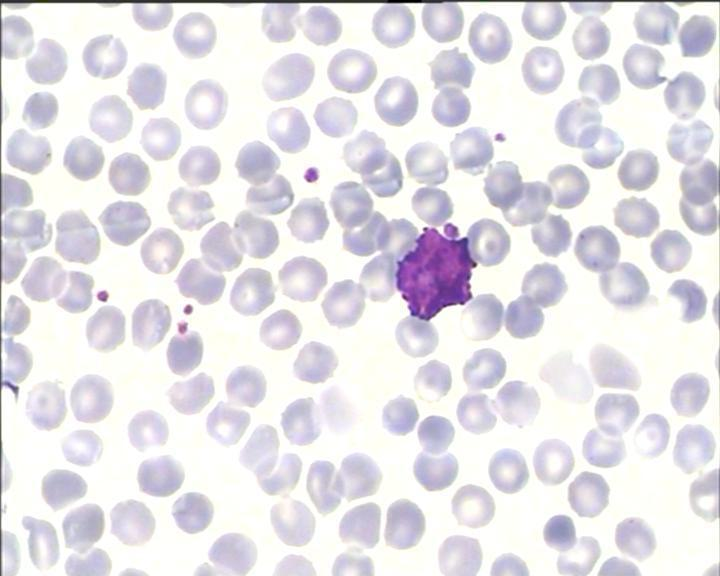baso: (387, 218, 481, 321)
